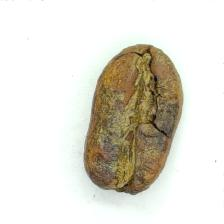NG: (87, 45, 176, 193)
